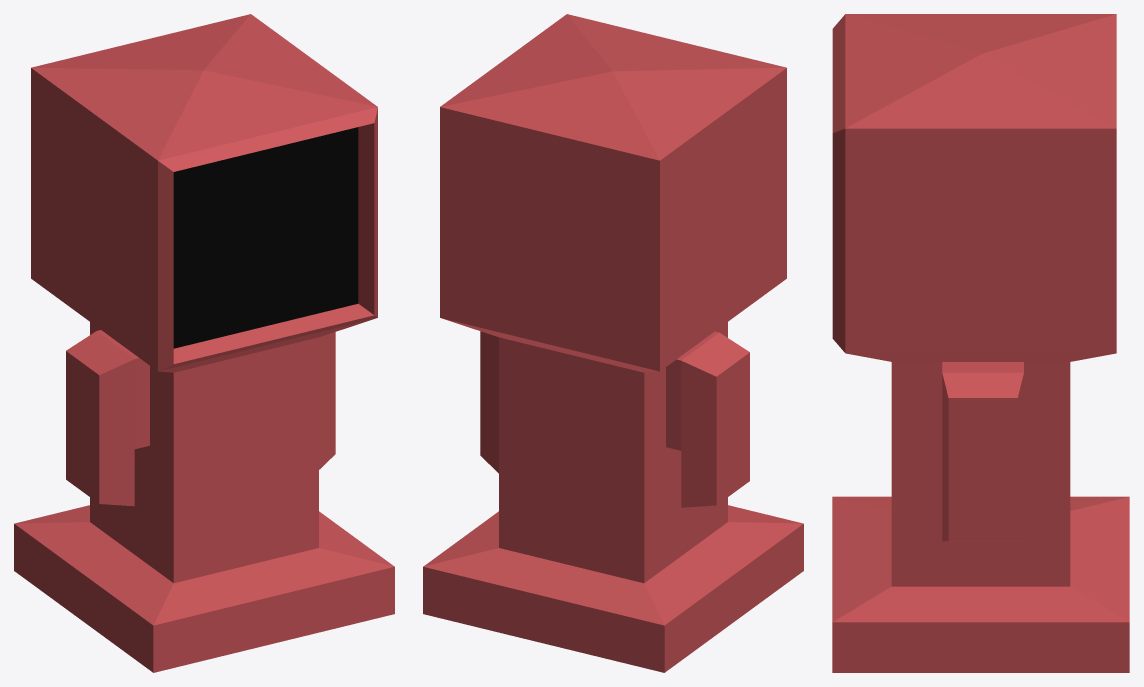
File: chess.obj
3 views of the same model, side by side, from view 1: azimuth 30°, elevation 25°; view 2: azimuth 150°, elevation 25°; view 3: azimuth 270°, elevation 25° (orthographic). The views are drawn at different scales.
Parts seen in each view (by area): view 1: Cube; view 2: Cube; view 3: Cube.
Boxes of the visible parts, x1,y1,x2,y2 form: Cube: [14, 14, 394, 672]; Cube: [423, 14, 803, 672]; Cube: [832, 14, 1129, 672].
Size of the model in its own units: 0.7005 by 1.45 by 0.7.
